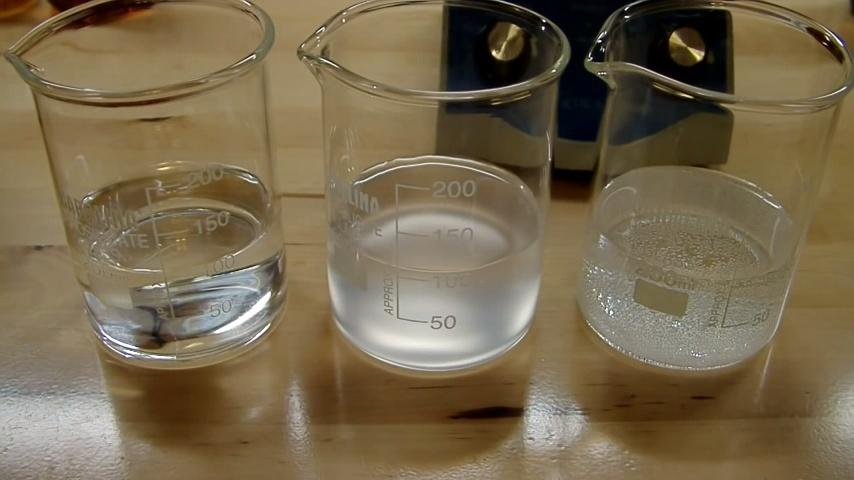Beaker: (246, 1, 569, 399), (592, 5, 847, 455), (16, 1, 227, 400)
